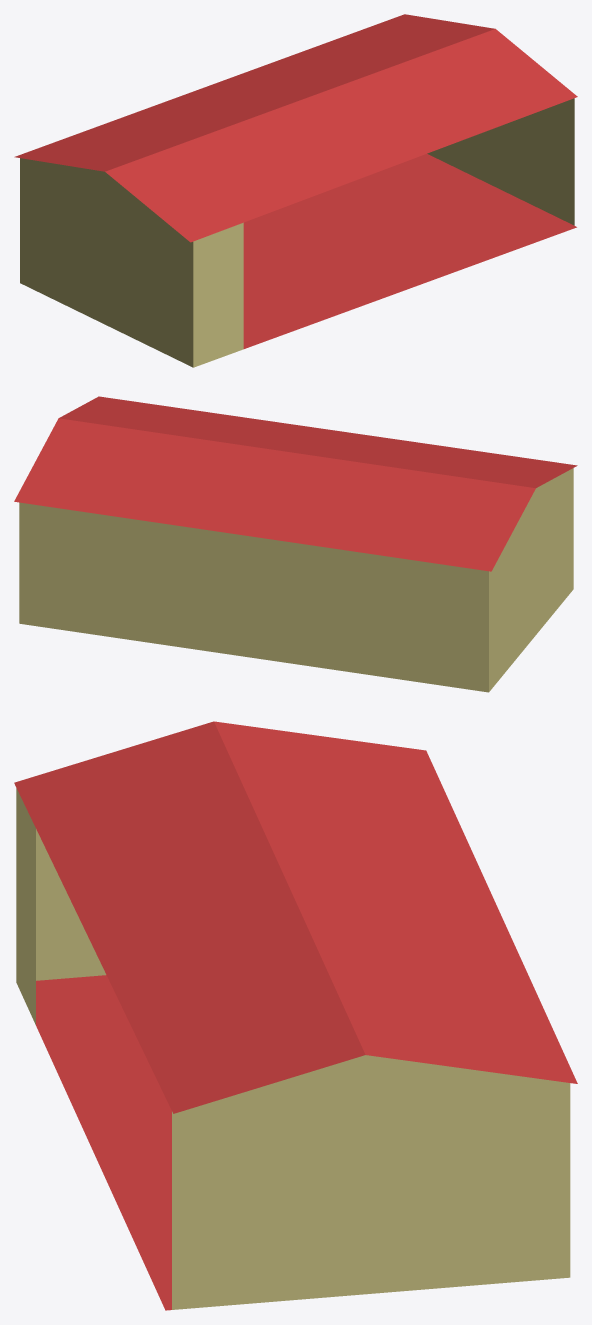
The picture shows the model from 3 angles, top to bottom: view 1: azimuth 30°, elevation 25°; view 2: azimuth 150°, elevation 25°; view 3: azimuth 270°, elevation 25°; orthographic projection. The views are drawn at different scales.
Size of the model in its own units: 32.53 by 21.15 by 10.02.
